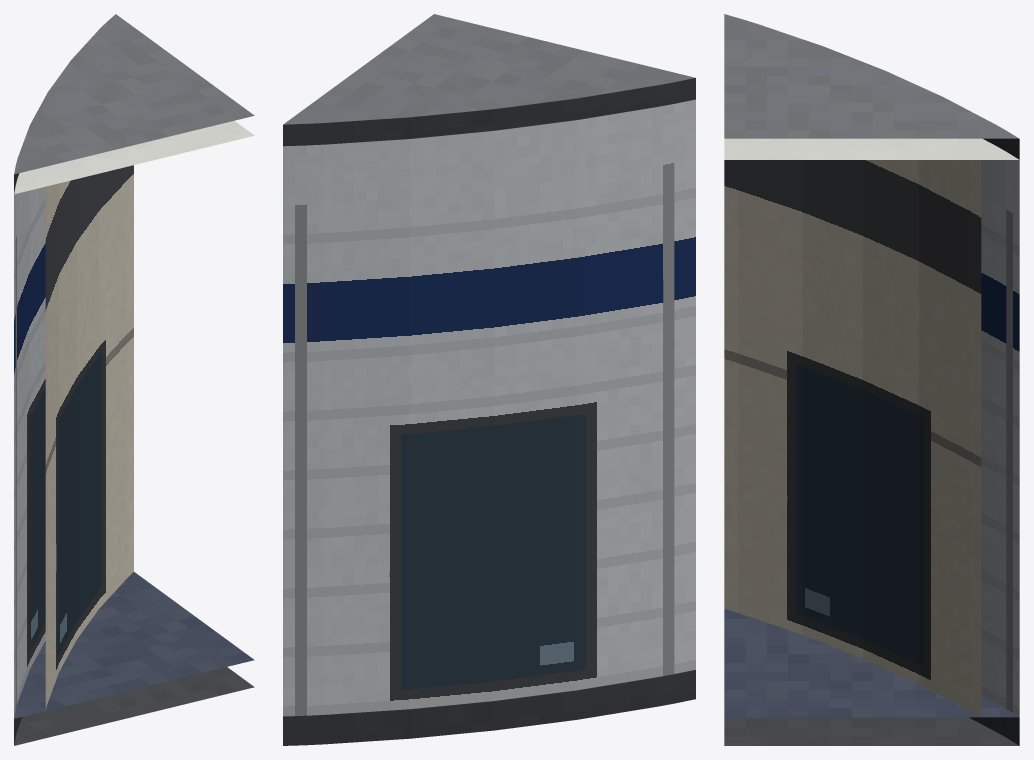
File: airport_jet_bridge_turn_c1.obj
3 views of the same model, side by side, from view 1: azimuth 30°, elevation 25°; view 2: azimuth 150°, elevation 25°; view 3: azimuth 270°, elevation 25° (orthographic). The views are drawn at different scales.
Parts seen in each view (by area): view 1: airport_jet_bridge_turn_c1; view 2: airport_jet_bridge_turn_c1; view 3: airport_jet_bridge_turn_c1.
Boxes of the visible parts, x1,y1,x2,y2 form: airport_jet_bridge_turn_c1: (14, 14, 254, 745); airport_jet_bridge_turn_c1: (283, 14, 695, 745); airport_jet_bridge_turn_c1: (724, 14, 1019, 745).
Size of the model in its own units: 0.8707 by 1.98 by 0.8707.
